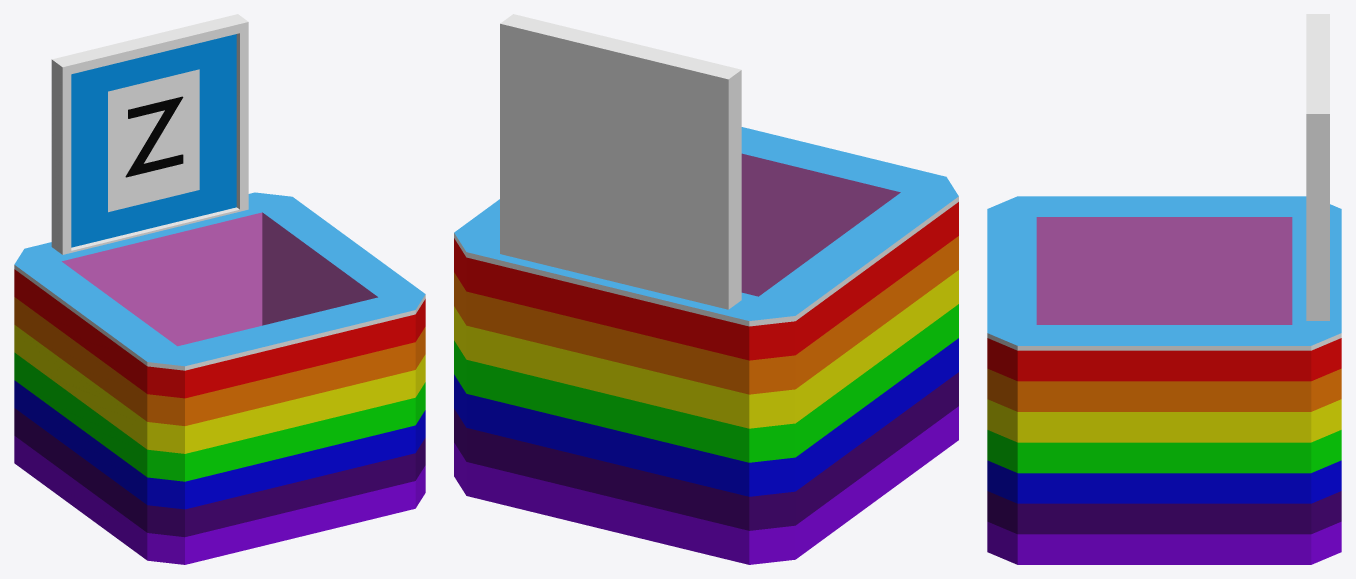
The picture shows the model from 3 angles, left to right: view 1: azimuth 30°, elevation 25°; view 2: azimuth 150°, elevation 25°; view 3: azimuth 270°, elevation 25°; orthographic projection. The views are drawn at different scales.
Parts seen in each view (by area): view 1: Cube.001, Text; view 2: Cube.001; view 3: Cube.001.
Part boxes in pixels (x1,y1,x2,y2): Cube.001: [14, 14, 425, 564]; Text: [125, 96, 183, 177]; Cube.001: [454, 14, 958, 564]; Cube.001: [987, 14, 1341, 564].
Bounding box in the file's own units: 383 × 508 × 383.
